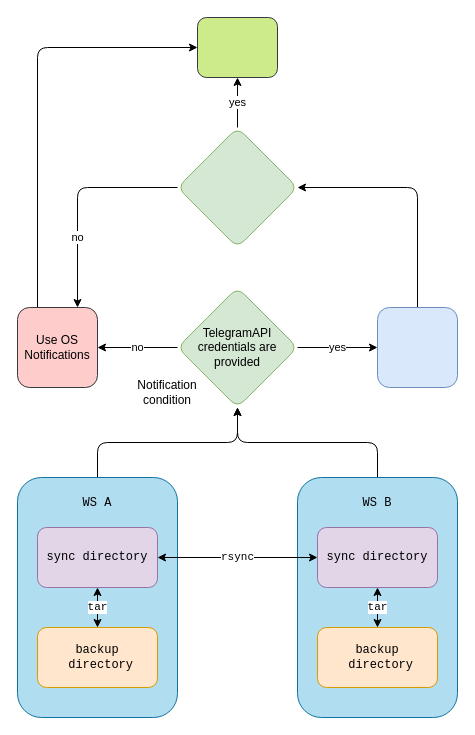
The diagram is 475 pixels wide and 735 high, and some of its shapes have lost their labels. The shapes that lost their labels are listed below. From the top down, each one's centre as x and y in pixels, then its label:
At (237,47): "Completed".
At (237,187): "Successfully Notified".
At (417,347): "Notify by Telegram API".
